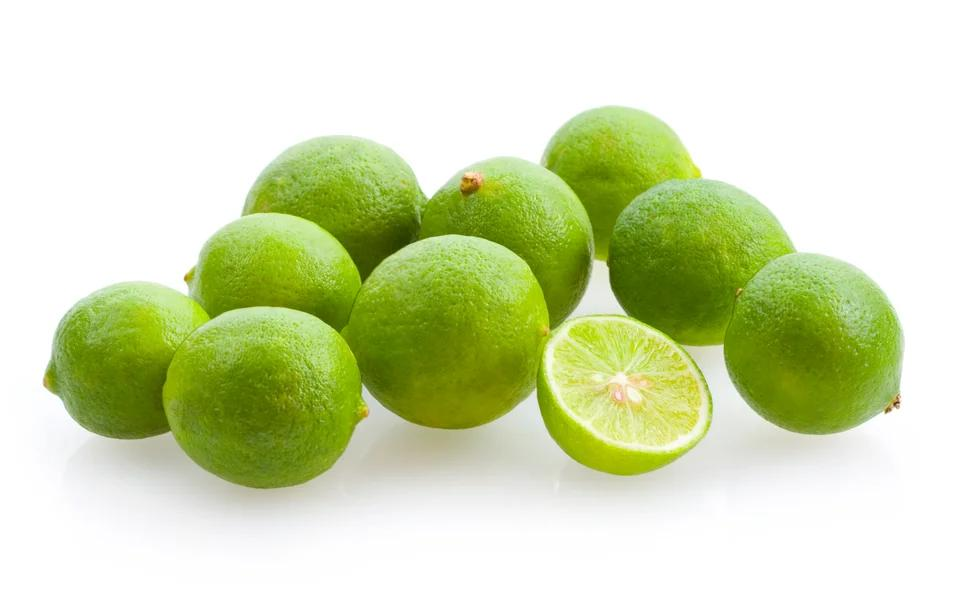lime: (352, 234, 544, 437), (163, 308, 366, 492), (727, 251, 907, 439), (541, 312, 712, 482), (606, 176, 786, 336), (42, 287, 165, 448), (436, 148, 606, 250), (175, 213, 356, 306), (242, 129, 419, 217)
